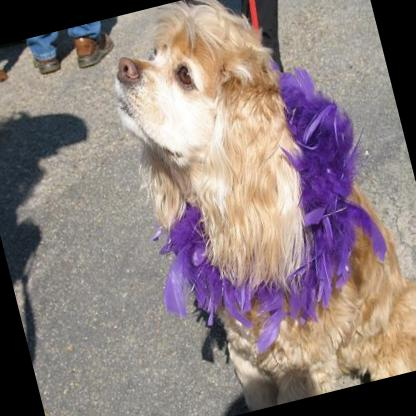cocker_spaniel: (90, 0, 416, 416)
